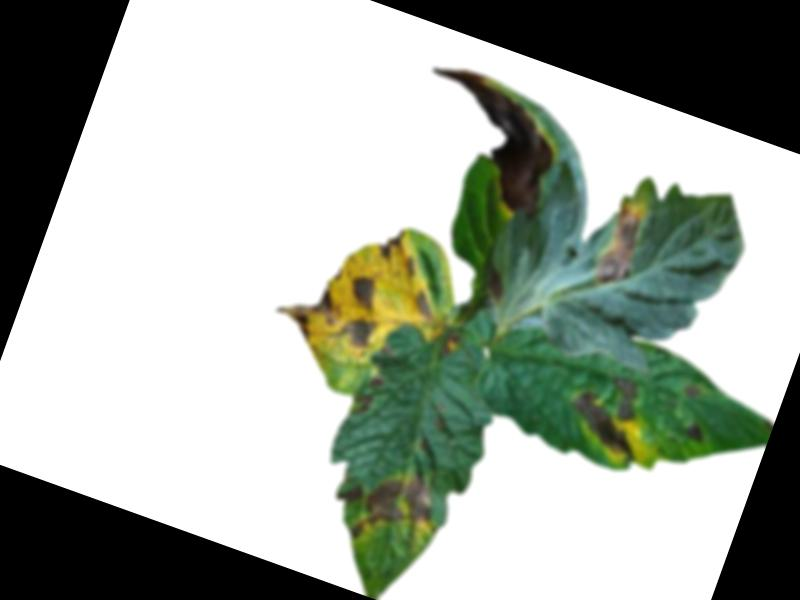Early_blight: (395, 57, 572, 221), (347, 454, 445, 562), (559, 361, 661, 462), (263, 271, 347, 348), (588, 195, 652, 292), (336, 310, 380, 355), (348, 369, 383, 422), (342, 271, 384, 314), (376, 221, 409, 263), (335, 477, 365, 510), (410, 287, 439, 317), (399, 251, 423, 279), (684, 419, 708, 443), (441, 330, 459, 355), (682, 379, 702, 398)
